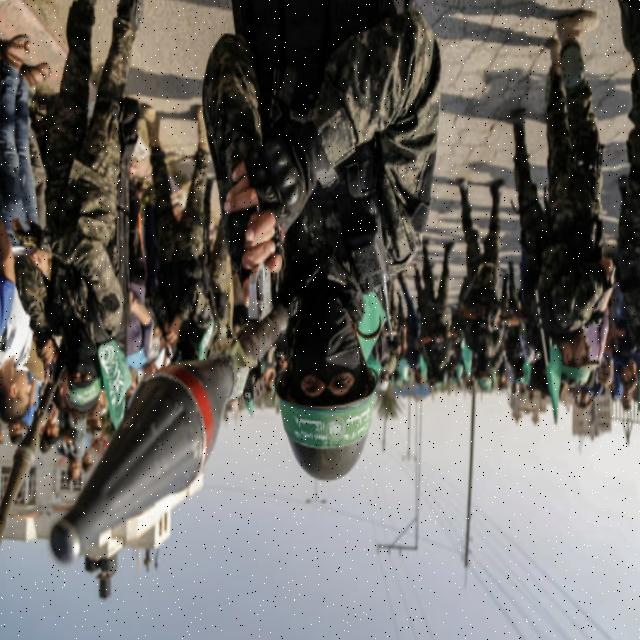bazooka: (36, 272, 337, 587)
